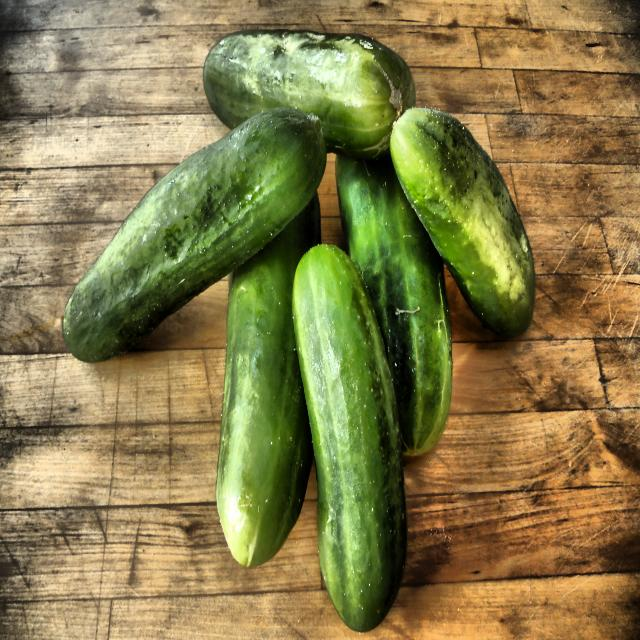cucumber: (21, 20, 566, 640)
